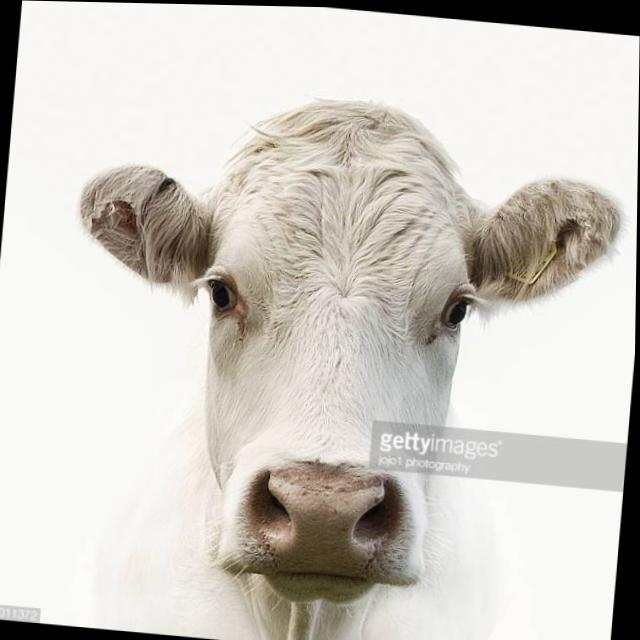cowFace: (41, 65, 639, 637)
